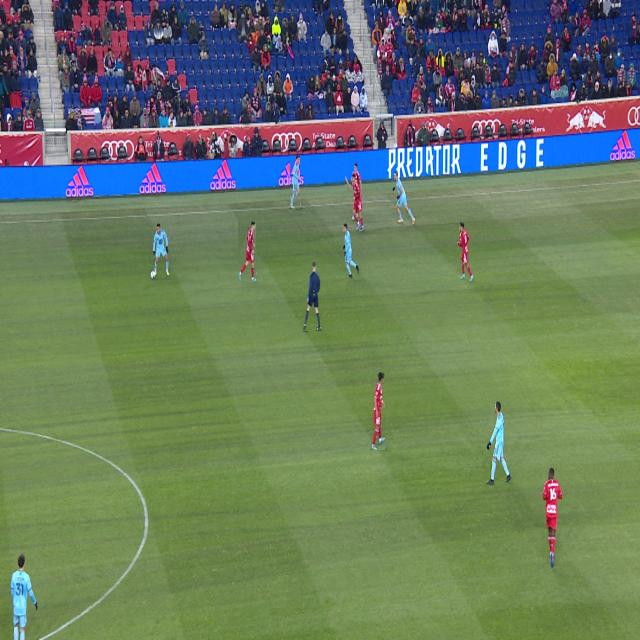football: (150, 270, 156, 279)
player: (11, 554, 38, 640), (487, 401, 511, 485), (543, 468, 562, 567), (393, 171, 415, 224), (372, 372, 385, 450), (457, 222, 474, 281), (239, 222, 256, 281), (152, 224, 169, 276), (343, 223, 359, 278), (352, 175, 364, 231), (291, 156, 300, 209), (353, 163, 362, 198), (346, 177, 351, 189), (356, 210, 358, 217), (352, 215, 354, 220)
referee: (303, 263, 321, 331)
